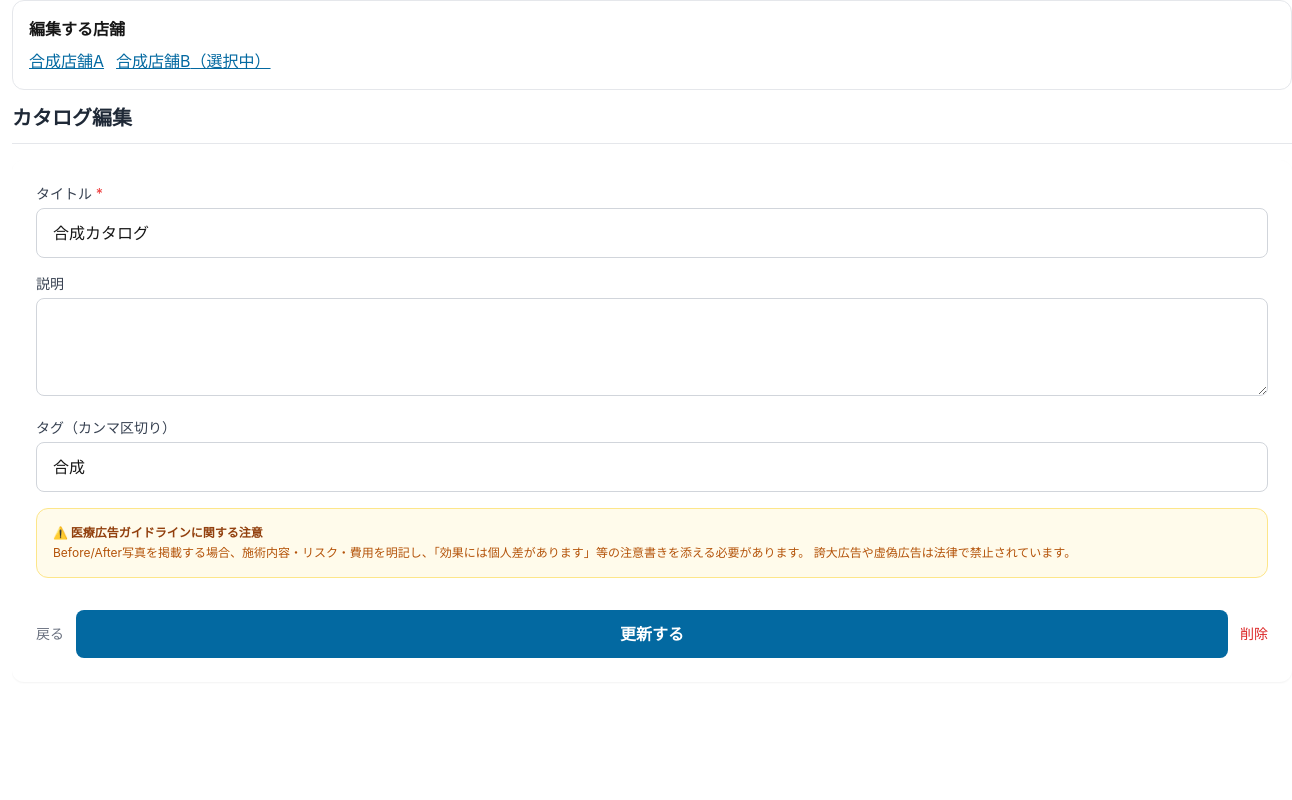
catalog: a network failure while saving is reported and nothing navigates
The width and height of the screenshot is (1292, 800).
Check: the field showing "合成カタログ" is shown, box [36,208,1268,258]
Click the button "更新する".
click(652, 634)  # box [76,610,1228,658]
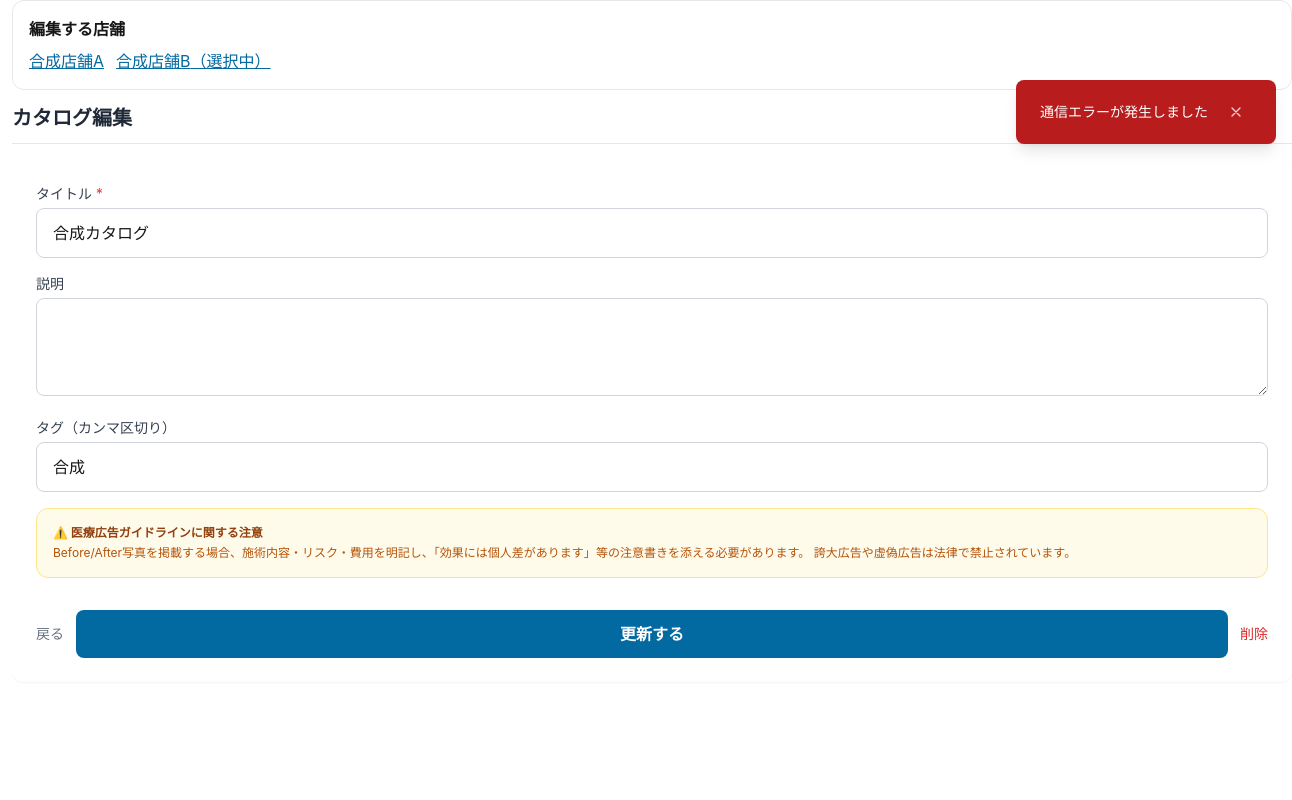
Check: the text "通信エラーが発生しました" is shown, box [1040,102,1208,122]
